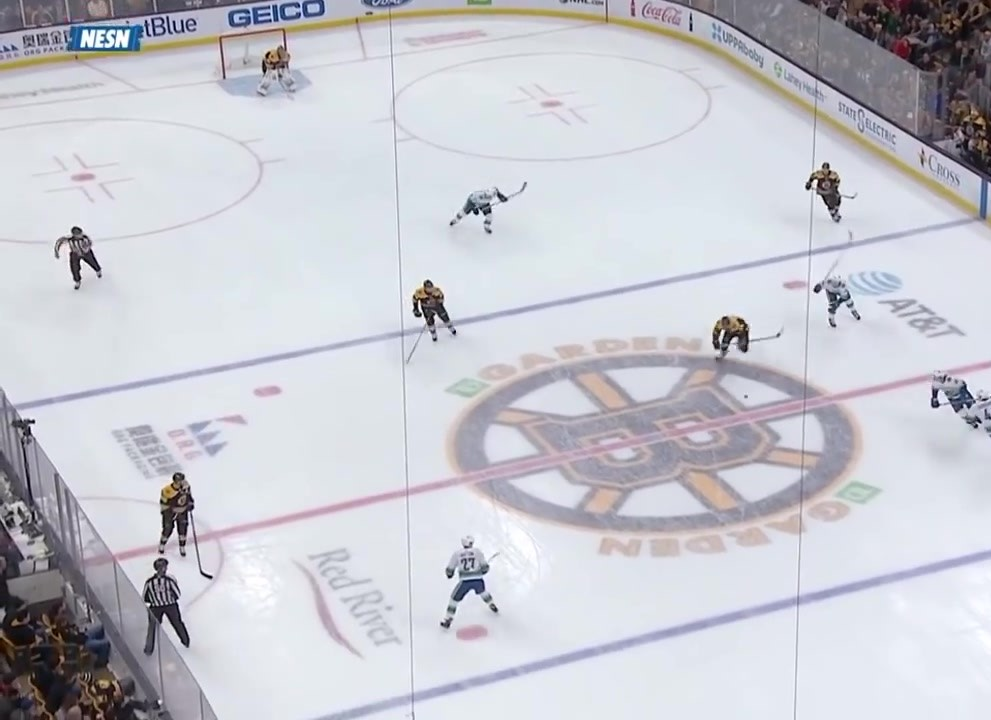Geico: (226, 1, 333, 27)
